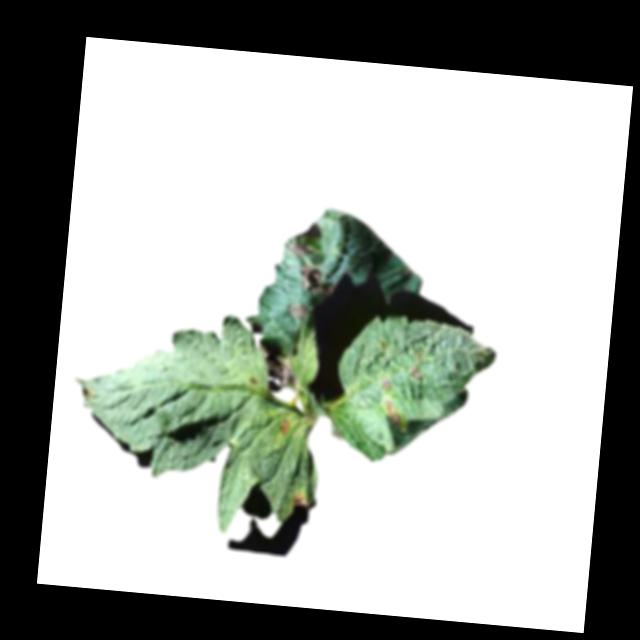Early_blight: (262, 347, 299, 391), (296, 262, 336, 296), (383, 398, 408, 428), (284, 297, 310, 320), (289, 238, 314, 259), (291, 491, 308, 509), (277, 416, 292, 434), (408, 362, 423, 379), (379, 377, 393, 391)
